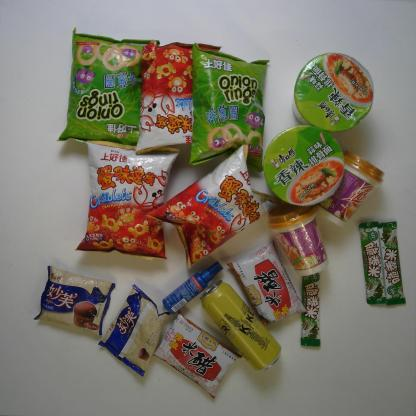Alcohol: (200, 279, 282, 372)
Chocolate: (378, 221, 406, 306), (359, 221, 387, 304), (301, 272, 321, 347)
Dessert: (98, 284, 171, 378), (33, 265, 116, 336)
Instant Drink: (317, 147, 385, 229), (266, 204, 328, 277)
Instant Noodles: (262, 125, 345, 208), (292, 52, 374, 134)
Personal Hygiene: (162, 261, 224, 314)
Puffed Food: (145, 144, 282, 270), (74, 139, 181, 261), (56, 27, 160, 146), (188, 42, 270, 174), (135, 41, 223, 154)
Seasoner: (152, 309, 244, 400), (226, 239, 307, 327)
